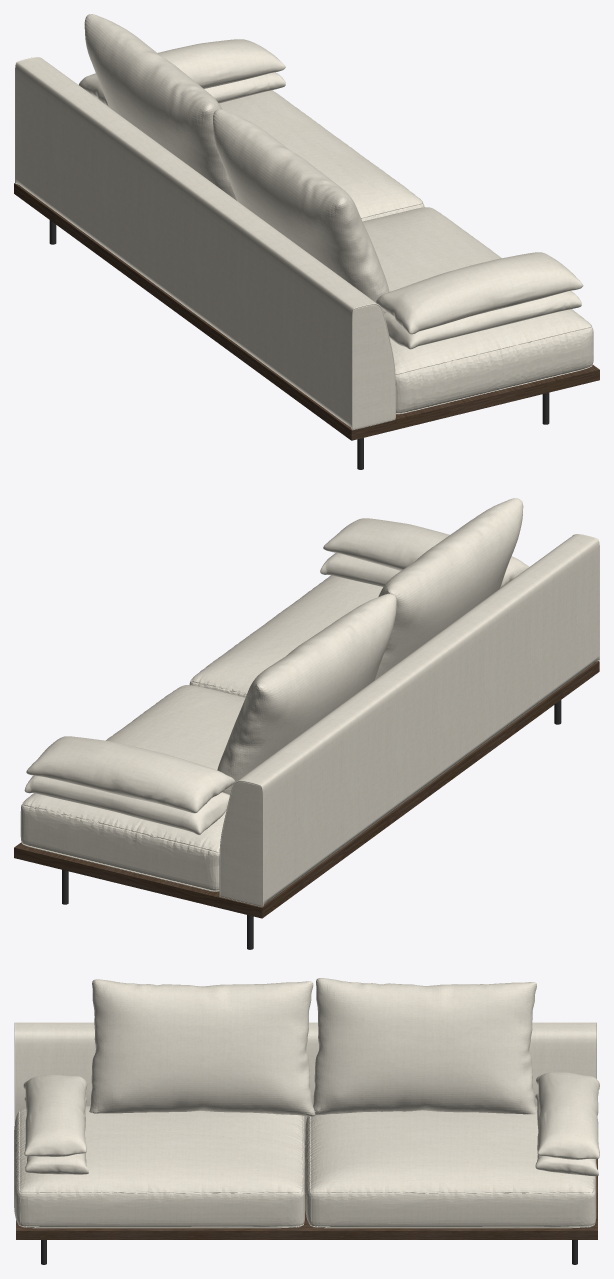
The model's file is zita.glb.
3 views of the same model, one above another, from view 1: azimuth 30°, elevation 25°; view 2: azimuth 150°, elevation 25°; view 3: azimuth 270°, elevation 25° (orthographic). The views are drawn at different scales.
Visible parts, largest first — view 1: MAIN, DOOR; view 2: MAIN, DOOR; view 3: MAIN, DOOR.
Boxes of the visible parts, <box> form: MAIN: <box>15,14,593,430</box>; DOOR: <box>14,183,599,469</box>; MAIN: <box>20,498,599,906</box>; DOOR: <box>14,661,599,949</box>; MAIN: <box>14,978,599,1228</box>; DOOR: <box>16,1143,597,1264</box>.
Bounding box in the file's own units: 0.85 × 0.7995 × 2.01.
2 materials, 2 textured.
